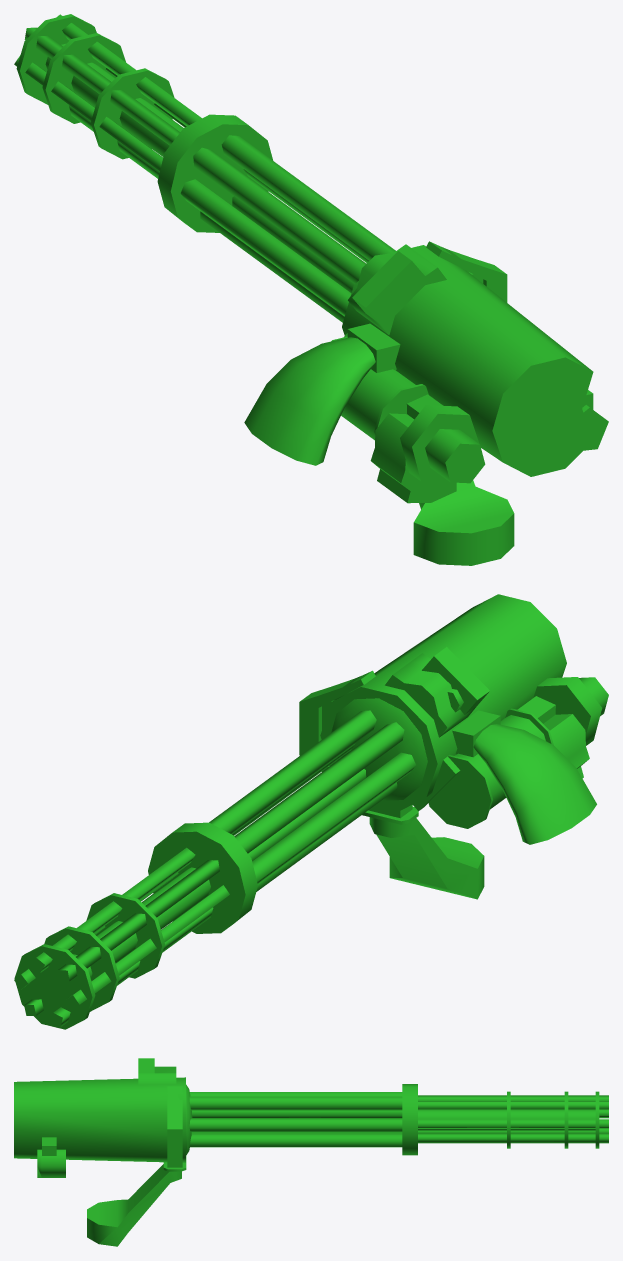
File: minigun.fbx
The picture shows the model from 3 angles, top to bottom: view 1: azimuth 30°, elevation 25°; view 2: azimuth 150°, elevation 25°; view 3: azimuth 270°, elevation 25°; orthographic projection. The views are drawn at different scales.
Parts seen in each view (by area): view 1: minigun_base, barrel; view 2: minigun_base, barrel; view 3: barrel, minigun_base.
Part boxes in pixels (x1,y1,x2,y2): minigun_base: (244,241,608,565); barrel: (14,14,395,322); minigun_base: (299,594,608,899); barrel: (14,698,427,1029); barrel: (186,1084,608,1155); minigun_base: (14,1058,186,1246).
Bounding box in the file's own units: 2557 × 2552 × 8300.
